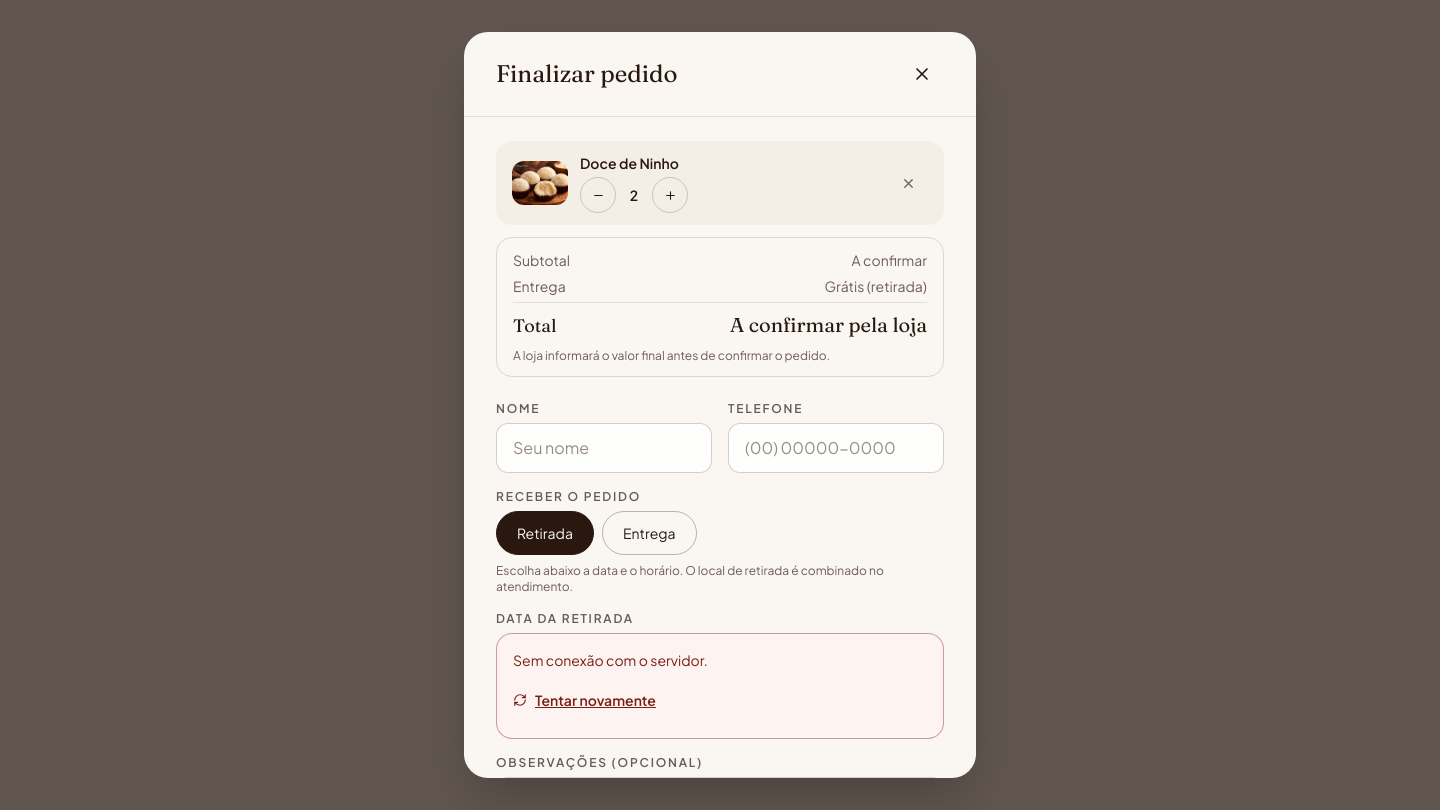
Test: falha ao carregar a agenda mostra erro com nova tentativa (sem tela quebrada)
Expected: the dialog with test id "order-modal" is shown, [464,32,976,778]
Expected: the message with test id "order-schedule-error" shows "Sem conexão", [513,651,708,669]
Click the button "Tentar novamente".
click(584, 700)  # box [513,678,656,722]
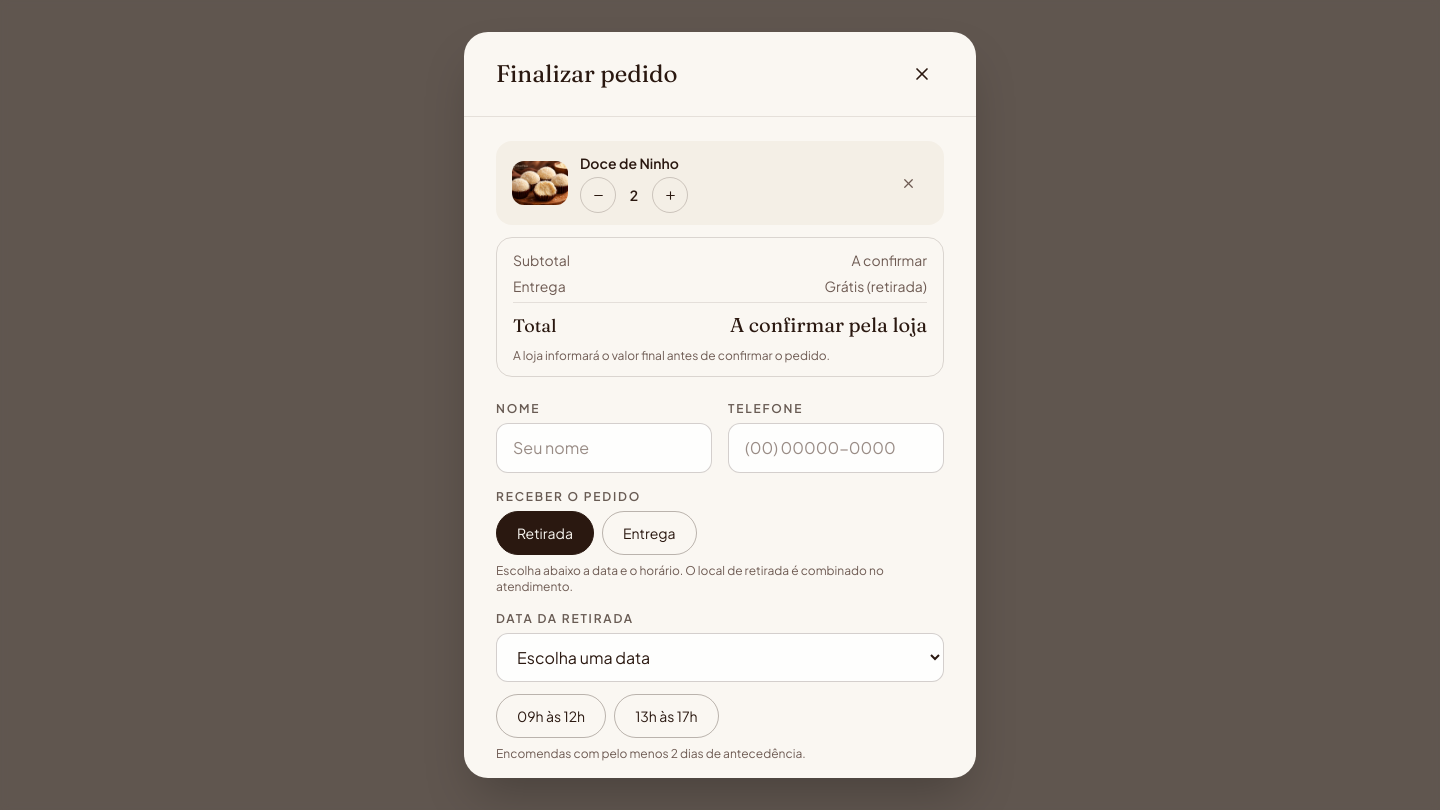
Expected: the dropdown with test id "order-input-data" is shown, [496,633,944,682]
